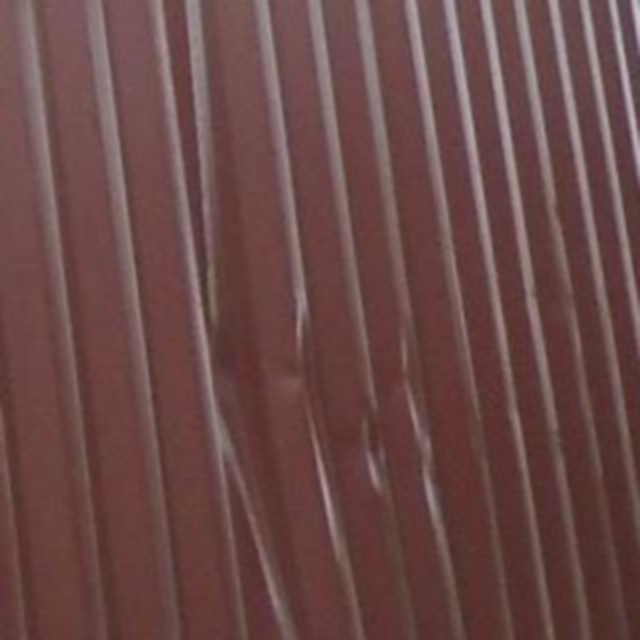Dent: (186, 218, 452, 567)
